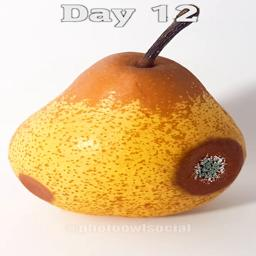Pear Rotten: (7, 7, 251, 219)
